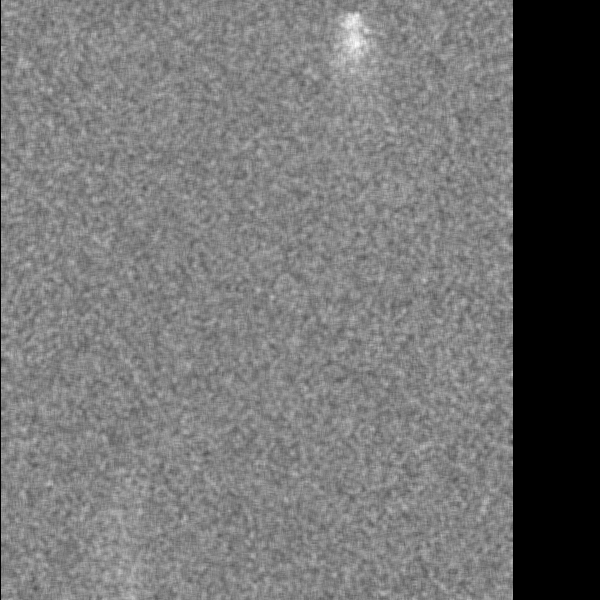spark: (336, 6, 374, 93)
